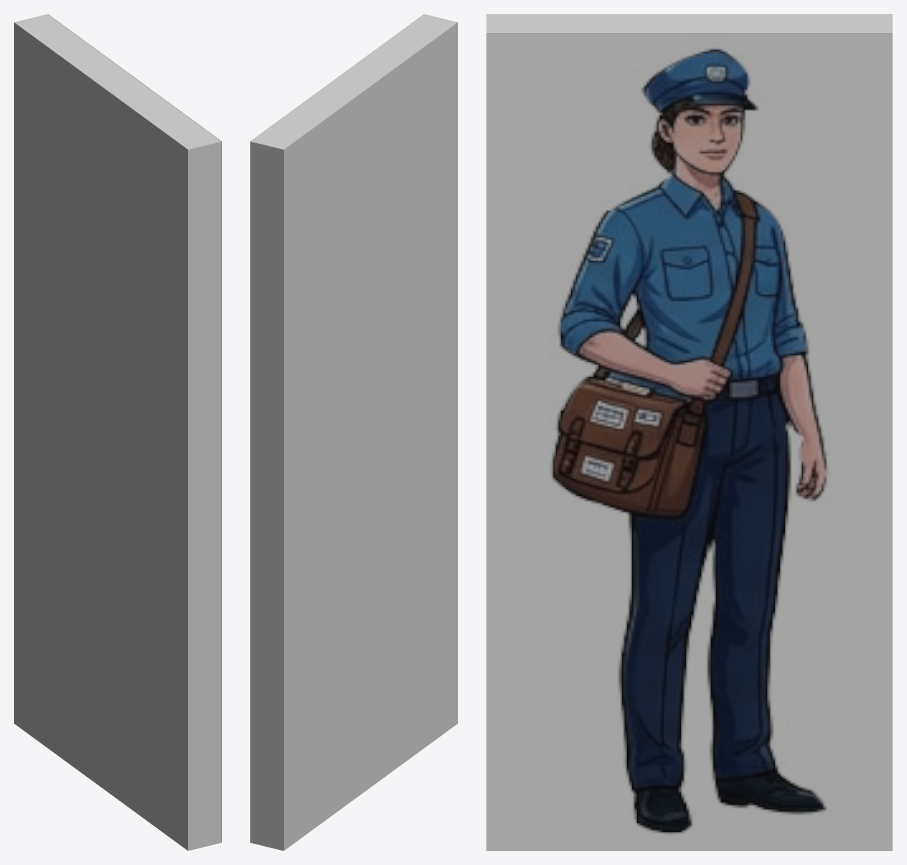
3 renders of one model, left to right at view 1: azimuth 30°, elevation 25°; view 2: azimuth 150°, elevation 25°; view 3: azimuth 270°, elevation 25°, orthographic. The views are drawn at different scales.
Parts seen in each view (by area): view 1: 立方体, 平面; view 2: 立方体, 平面; view 3: 平面, 立方体.
Part boxes in pixels (x1,y1,x2,y2): 立方体: (14,14,221,850); 平面: (48,14,221,842); 立方体: (250,14,457,850); 平面: (250,14,423,842); 平面: (486,33,892,850); 立方体: (486,14,892,33).
Size of the model in its own units: 0.0101 by 0.09 by 0.2.
Materials: 1 (1 with a texture image).
